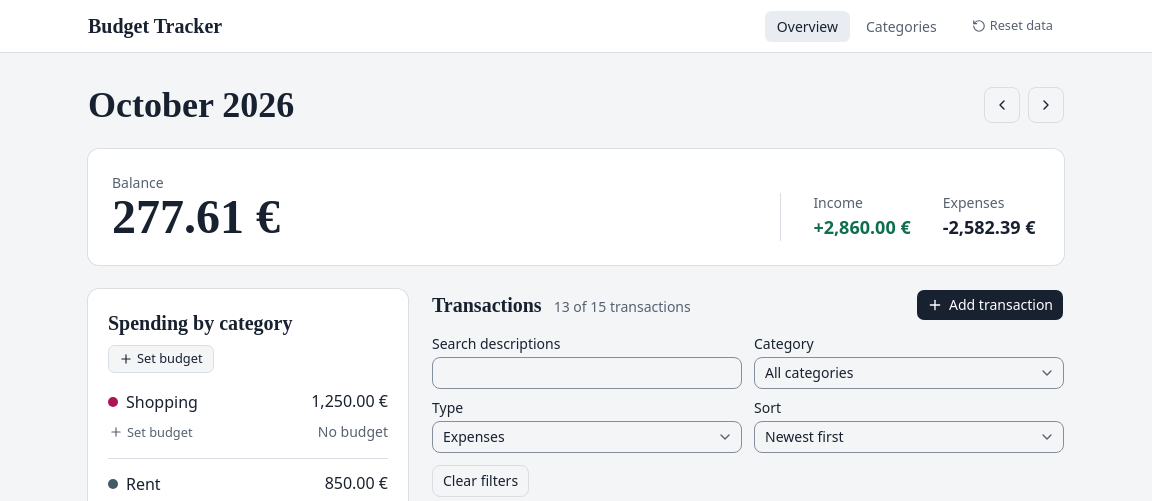
it: month in the URL › goes to the previous and next month and keeps the filters
Click the link named "Previous month".
click(1002, 105)  # box [984,87,1020,123]
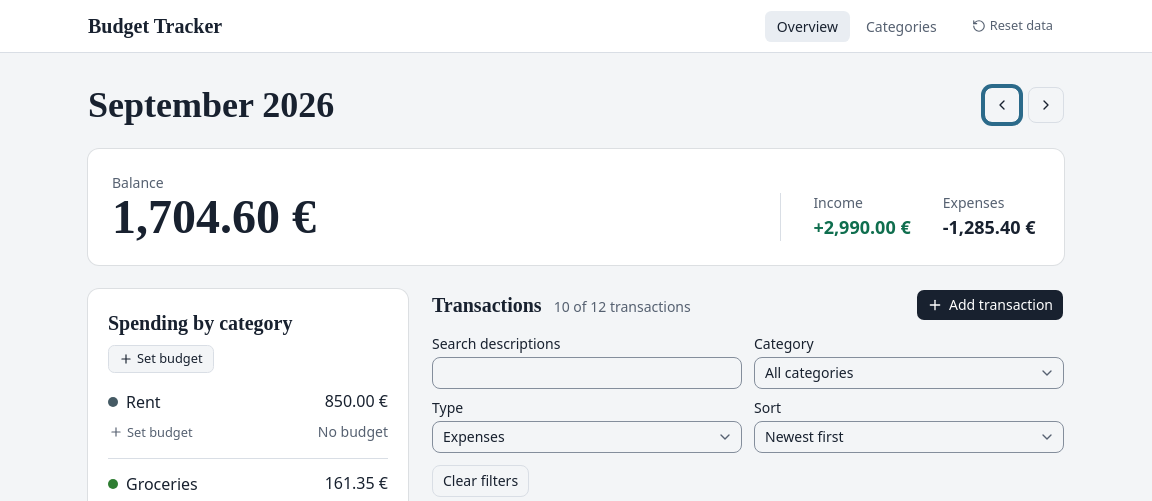
Expected: the heading "September 2026" is shown, [88,85,334,125]
Click the link named "Next month".
click(1046, 105)  # box [1028,87,1064,123]
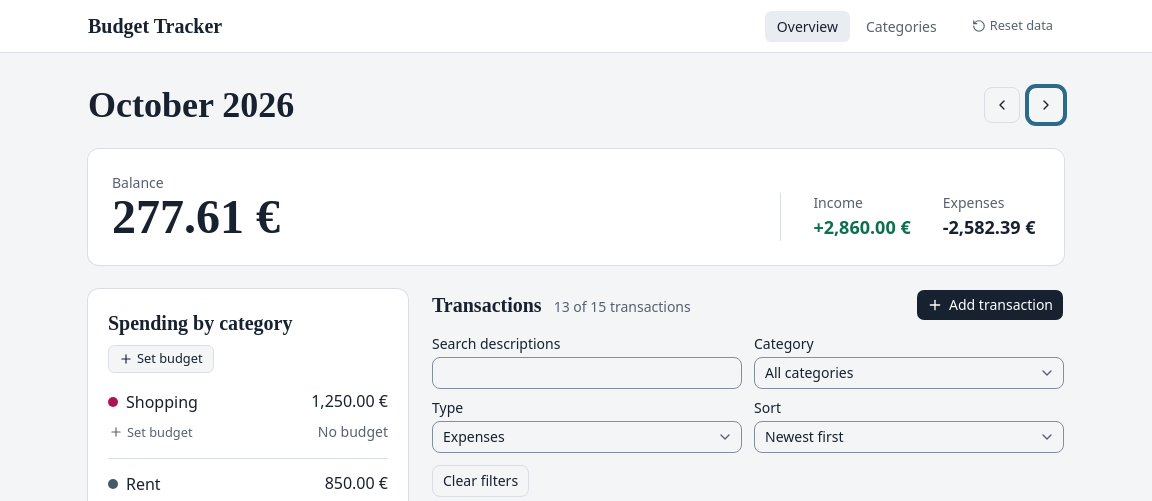
Expected: the heading "October 2026" is shown, [88,85,294,125]
